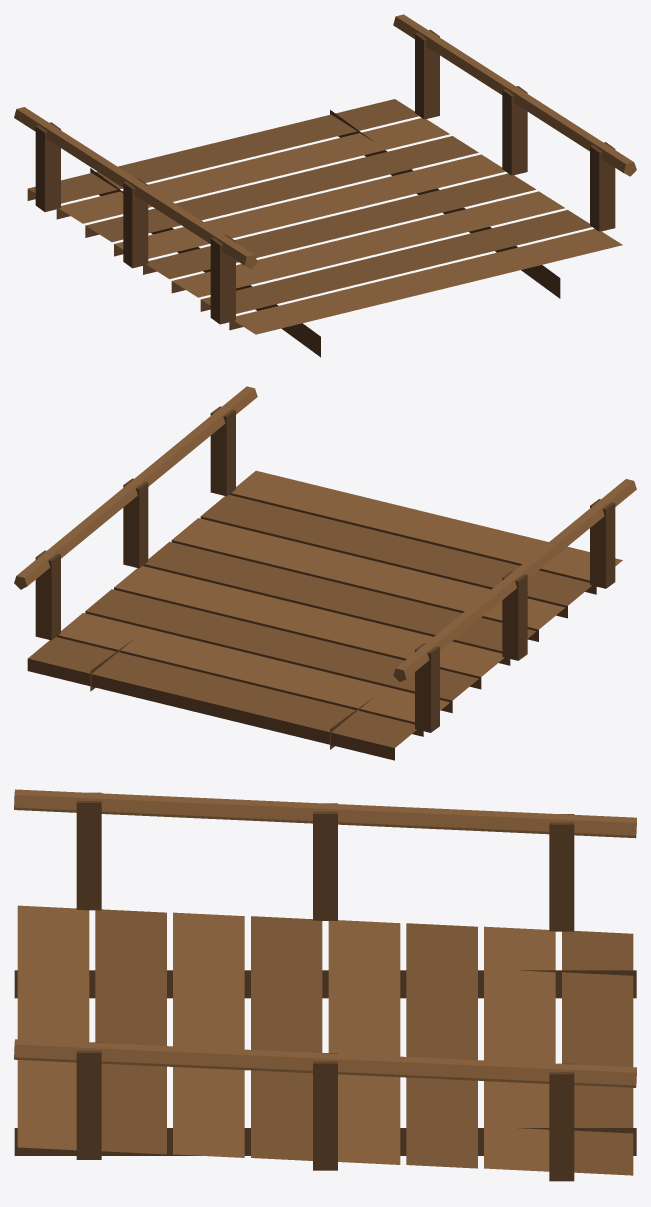
Rendered from bridge_ramp.glb.
3 renders of one model, top to bottom at view 1: azimuth 30°, elevation 25°; view 2: azimuth 150°, elevation 25°; view 3: azimuth 270°, elevation 25°, orthographic. The views are drawn at different scales.
Visible parts, largest first — view 1: bridge_ramp; view 2: bridge_ramp; view 3: bridge_ramp.
Part boxes in pixels (x1=…): bridge_ramp: x1=14, y1=14, x2=636, y2=357; bridge_ramp: x1=14, y1=386, x2=636, y2=760; bridge_ramp: x1=14, y1=789, x2=636, y2=1181.
Size of the model in its own units: 1.98 by 0.5683 by 2.
